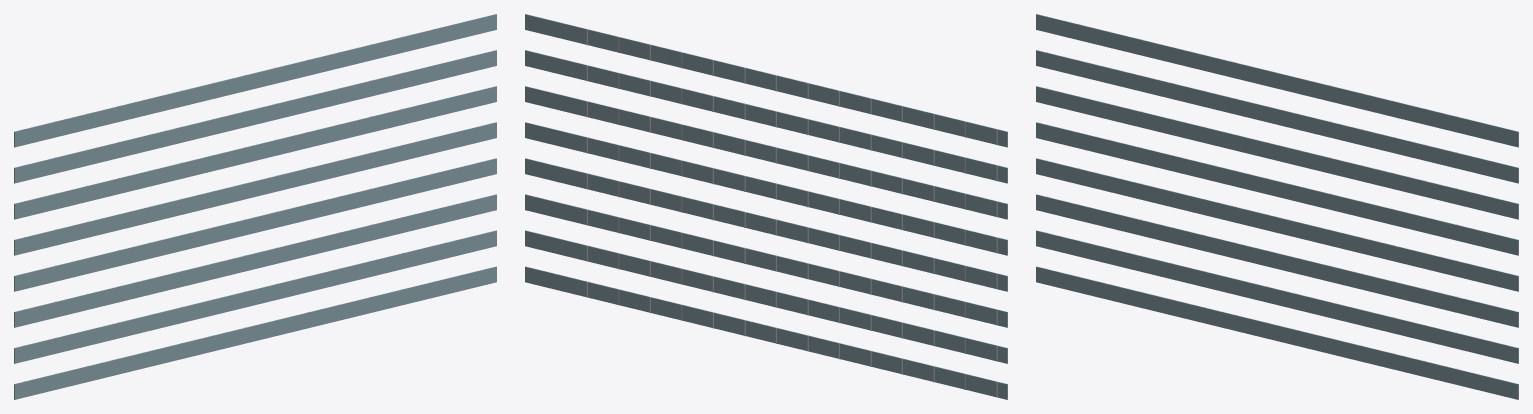
Rendered from 20261103-east-embassy-detail.glb.
3 renders of one model, left to right at view 1: azimuth 30°, elevation 25°; view 2: azimuth 150°, elevation 25°; view 3: azimuth 330°, elevation 25°, orthographic.
Parts seen in each view (by area): view 1: Embassy - approximate ribbon glazing 01, Embassy - approximate ribbon glazing 02, Embassy - approximate ribbon glazing 05, Embassy - approximate ribbon glazing 06, Embassy - approximate ribbon glazing 00, Embassy - approximate ribbon glazing 03, Embassy - approximate ribbon glazing 04, Embassy - approximate ribbon glazing 07; view 2: Embassy - approximate ribbon glazing 02, Embassy - approximate ribbon glazing 05, Embassy - approximate ribbon glazing 06, Embassy - approximate ribbon glazing 01, Embassy - approximate ribbon glazing 00, Embassy - approximate ribbon glazing 04, Embassy - approximate ribbon glazing 07, Embassy - approximate ribbon glazing 03, Embassy - approximate window divisions 00, Embassy - approximate window divisions 05, Embassy - approximate window divisions 01, Embassy - approximate window divisions 02 (+4 smaller); view 3: Embassy - approximate ribbon glazing 01, Embassy - approximate ribbon glazing 02, Embassy - approximate ribbon glazing 05, Embassy - approximate ribbon glazing 06, Embassy - approximate ribbon glazing 00, Embassy - approximate ribbon glazing 03, Embassy - approximate ribbon glazing 04, Embassy - approximate ribbon glazing 07.
Part boxes in pixels (x1,y1,x2,y2): Embassy - approximate ribbon glazing 01: (14,230,496,363); Embassy - approximate ribbon glazing 02: (14,194,496,327); Embassy - approximate ribbon glazing 05: (14,86,496,219); Embassy - approximate ribbon glazing 06: (14,50,496,183); Embassy - approximate ribbon glazing 00: (14,266,496,399); Embassy - approximate ribbon glazing 03: (14,158,496,291); Embassy - approximate ribbon glazing 04: (14,122,496,255); Embassy - approximate ribbon glazing 07: (14,14,496,147); Embassy - approximate ribbon glazing 02: (525,194,1007,327); Embassy - approximate ribbon glazing 05: (525,86,1007,219); Embassy - approximate ribbon glazing 06: (525,50,1007,183); Embassy - approximate ribbon glazing 01: (525,230,1007,363); Embassy - approximate ribbon glazing 00: (525,266,1007,399); Embassy - approximate ribbon glazing 04: (525,122,1007,255); Embassy - approximate ribbon glazing 07: (525,14,1007,147); Embassy - approximate ribbon glazing 03: (525,158,1007,291); Embassy - approximate window divisions 00: (586,282,997,397); Embassy - approximate window divisions 05: (586,101,997,217); Embassy - approximate window divisions 01: (586,246,997,361); Embassy - approximate window divisions 02: (586,210,997,325); Embassy - approximate ribbon glazing 01: (1036,230,1518,363); Embassy - approximate ribbon glazing 02: (1036,194,1518,327); Embassy - approximate ribbon glazing 05: (1036,86,1518,219); Embassy - approximate ribbon glazing 06: (1036,50,1518,183); Embassy - approximate ribbon glazing 00: (1036,266,1518,399); Embassy - approximate ribbon glazing 03: (1036,158,1518,291); Embassy - approximate ribbon glazing 04: (1036,122,1518,255); Embassy - approximate ribbon glazing 07: (1036,14,1518,147).
Bounding box in the file's own units: 49 × 26 × 0.14.
